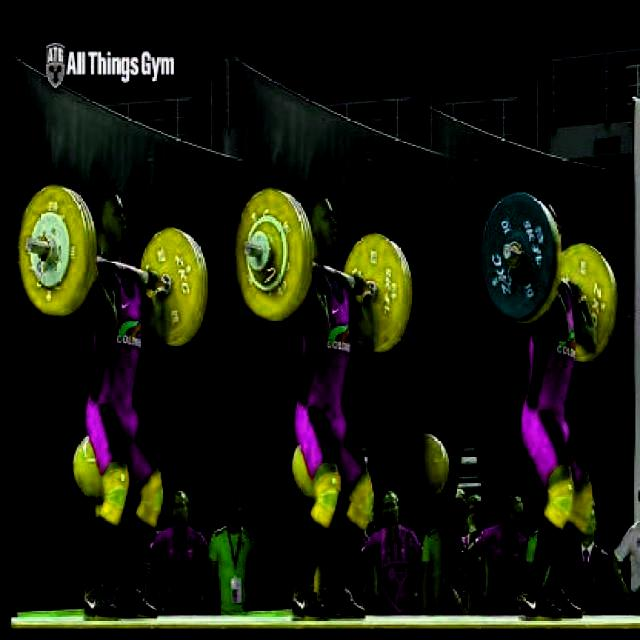barbell: (230, 177, 317, 334), (480, 191, 567, 334), (16, 181, 101, 324)
